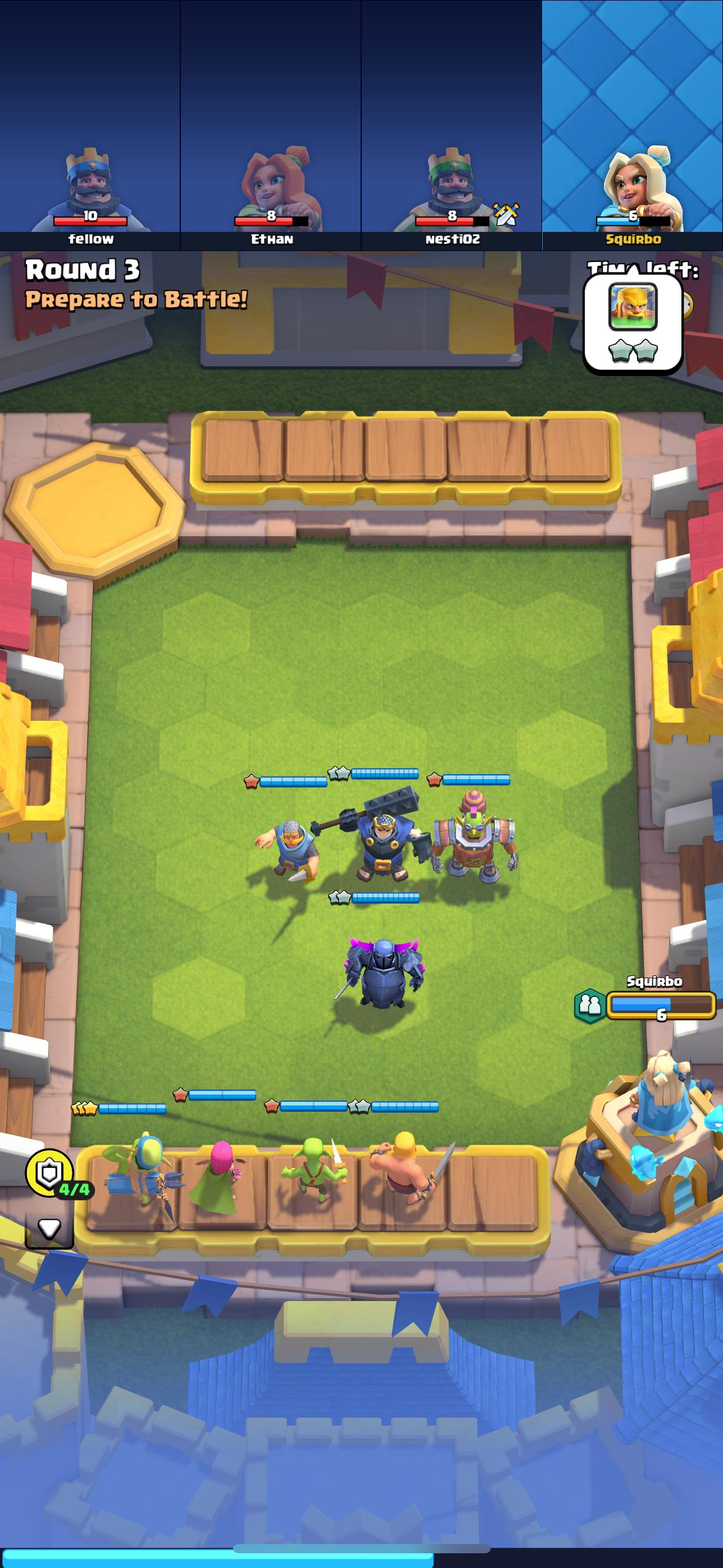archer: (192, 1132, 249, 1218)
barbarian: (360, 1123, 463, 1213)
goblin: (273, 1127, 352, 1213)
king: (325, 783, 438, 882)
knight: (248, 806, 322, 885)
machine: (427, 786, 525, 889)
pekka: (334, 923, 431, 1017)
spear: (99, 1119, 188, 1228)
